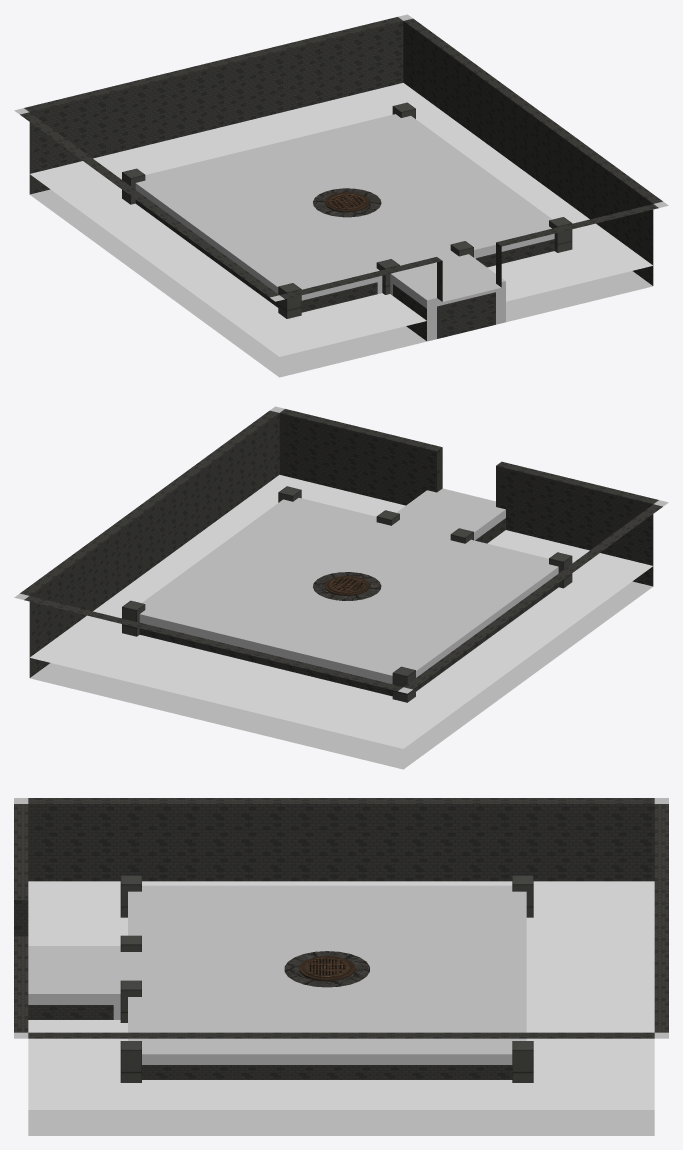
The model's file is StartRoom.fbx.
The picture shows the model from 3 angles, top to bottom: view 1: azimuth 30°, elevation 25°; view 2: azimuth 150°, elevation 25°; view 3: azimuth 270°, elevation 25°; orthographic projection. The views are drawn at different scales.
Visible parts, largest first — view 1: Floor, Wall, Water, Base, Corner_Stone, Manhole_Brick, Manhole; view 2: Floor, Wall, Water, Base, Corner_Stone, Manhole_Brick, Manhole; view 3: Floor, Wall, Water, Base, Corner_Stone, Manhole_Brick, Manhole.
Part boxes in pixels (<box>): Floor: <box>135,114,554,341</box>; Wall: <box>14,14,668,301</box>; Water: <box>30,83,652,356</box>; Base: <box>30,189,652,377</box>; Corner_Stone: <box>122,102,572,318</box>; Manhole_Brick: <box>313,188,381,217</box>; Manhole: <box>324,192,369,212</box>; Floor: <box>139,488,558,696</box>; Wall: <box>14,406,668,693</box>; Water: <box>30,475,652,748</box>; Base: <box>30,581,652,769</box>; Corner_Stone: <box>122,486,572,702</box>; Manhole_Brick: <box>313,572,381,600</box>; Manhole: <box>324,576,369,595</box>; Floor: <box>28,885,526,1079</box>; Wall: <box>14,798,668,1038</box>; Water: <box>28,881,654,1109</box>; Base: <box>28,1110,654,1135</box>; Corner_Stone: <box>120,875,533,1082</box>; Manhole_Brick: <box>284,951,369,987</box>; Manhole: <box>299,956,354,981</box>.
Size of the model in its own units: 40 by 8 by 46.
